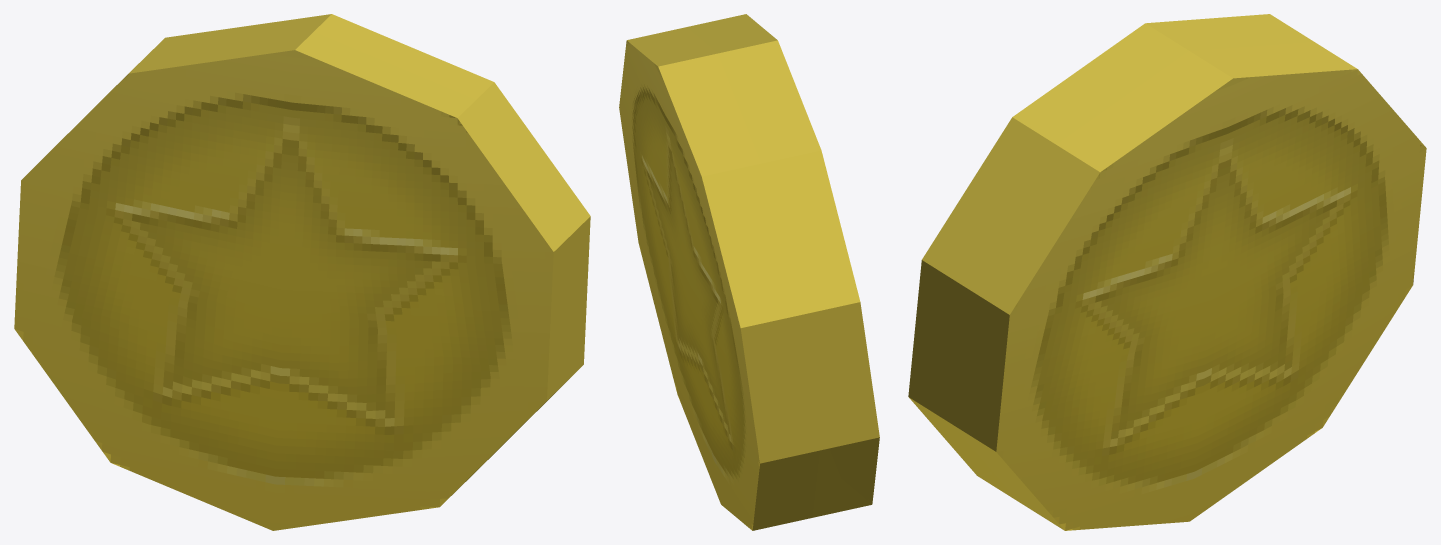
File: coin_1.001_lev1_lev2.glb
3 renders of one model, left to right at view 1: azimuth 30°, elevation 25°; view 2: azimuth 150°, elevation 25°; view 3: azimuth 270°, elevation 25°, orthographic. The views are drawn at different scales.
Parts seen in each view (by area): view 1: coin_1.001_lev1_lev2; view 2: coin_1.001_lev1_lev2; view 3: coin_1.001_lev1_lev2.
Part boxes in pixels (x1,y1,x2,y2): coin_1.001_lev1_lev2: [14, 14, 590, 530]; coin_1.001_lev1_lev2: [619, 14, 879, 530]; coin_1.001_lev1_lev2: [908, 14, 1426, 530].
Bounding box in the file's own units: 2.92 × 3.11 × 3.04.
Materials: 1 (1 with a texture image).
